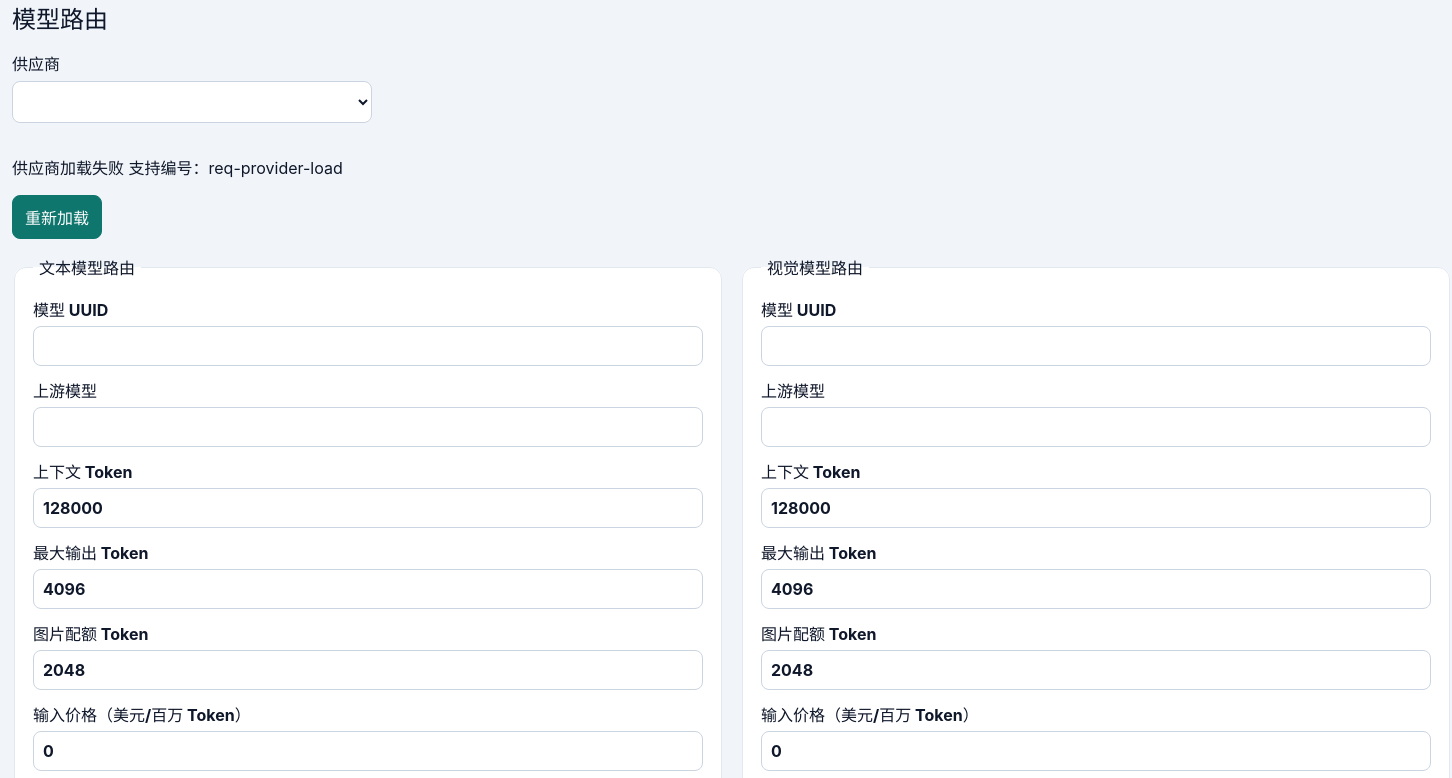
Test: ModelRoutingEditor › retries provider discovery after the initial provider list fails
This screenshot has width=1452, height=778.
Click the button with aria-label "重新加载模型路由" at (57, 217), box [12,195,102,239]
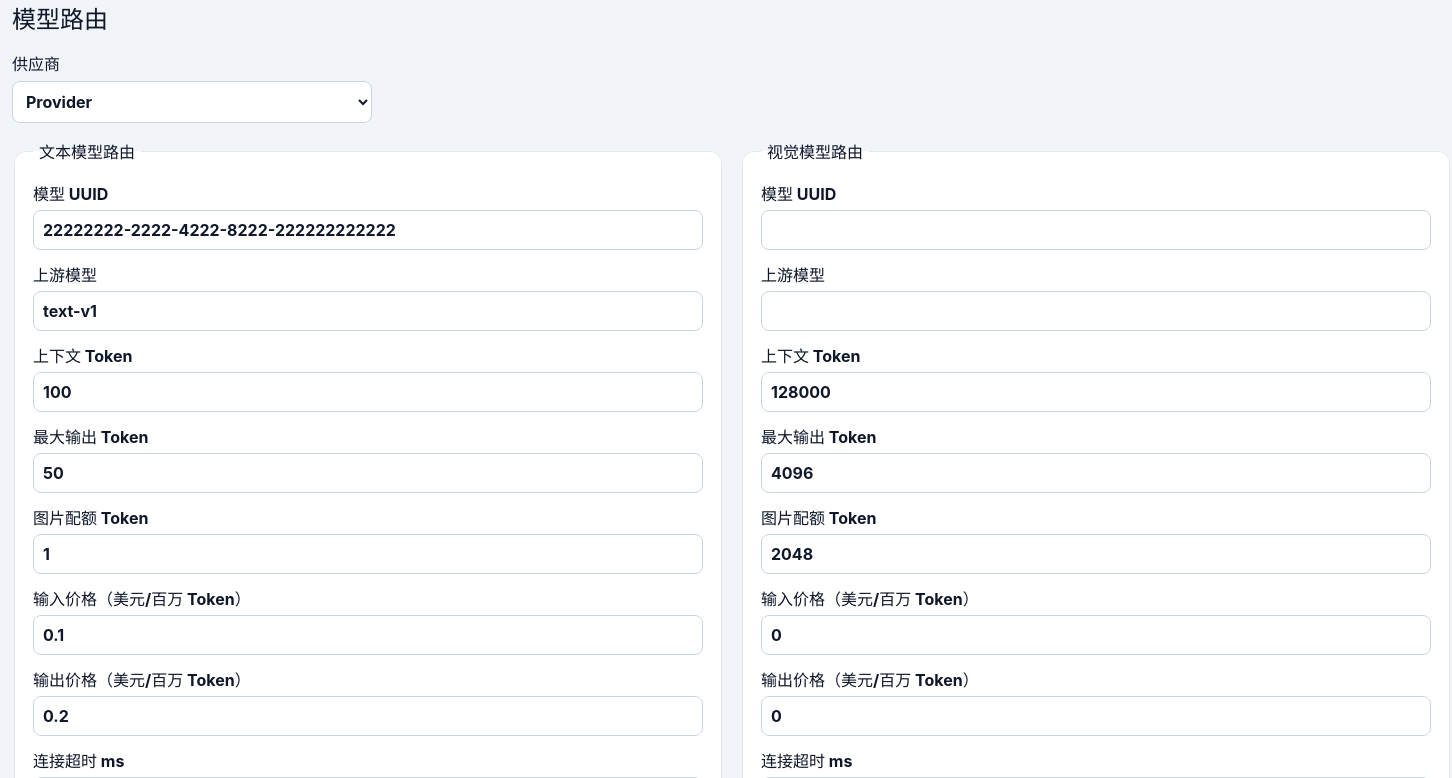
expect the field named "文本上游模型" holds "text-v1": met, box [33,291,703,331]
